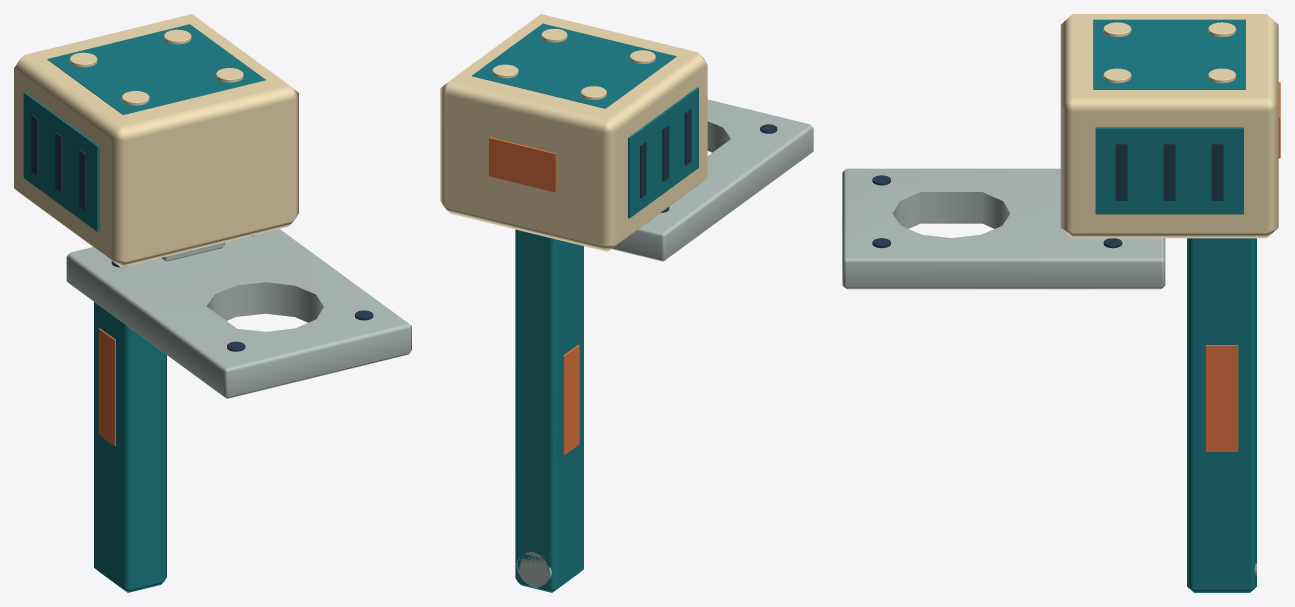
Rendered from engine-lod-1.glb.
3 renders of one model, left to right at view 1: azimuth 30°, elevation 25°; view 2: azimuth 150°, elevation 25°; view 3: azimuth 270°, elevation 25°, orthographic. The views are drawn at different scales.
Visible parts, largest first — view 1: engine_lod_1; view 2: engine_lod_1; view 3: engine_lod_1.
Boxes of the visible parts, x1,y1,x2,y2 form: engine_lod_1: (14,14,411,592); engine_lod_1: (440,14,813,592); engine_lod_1: (842,14,1280,592).
Size of the model in its own units: 1.05 by 2.7 by 2.01.
